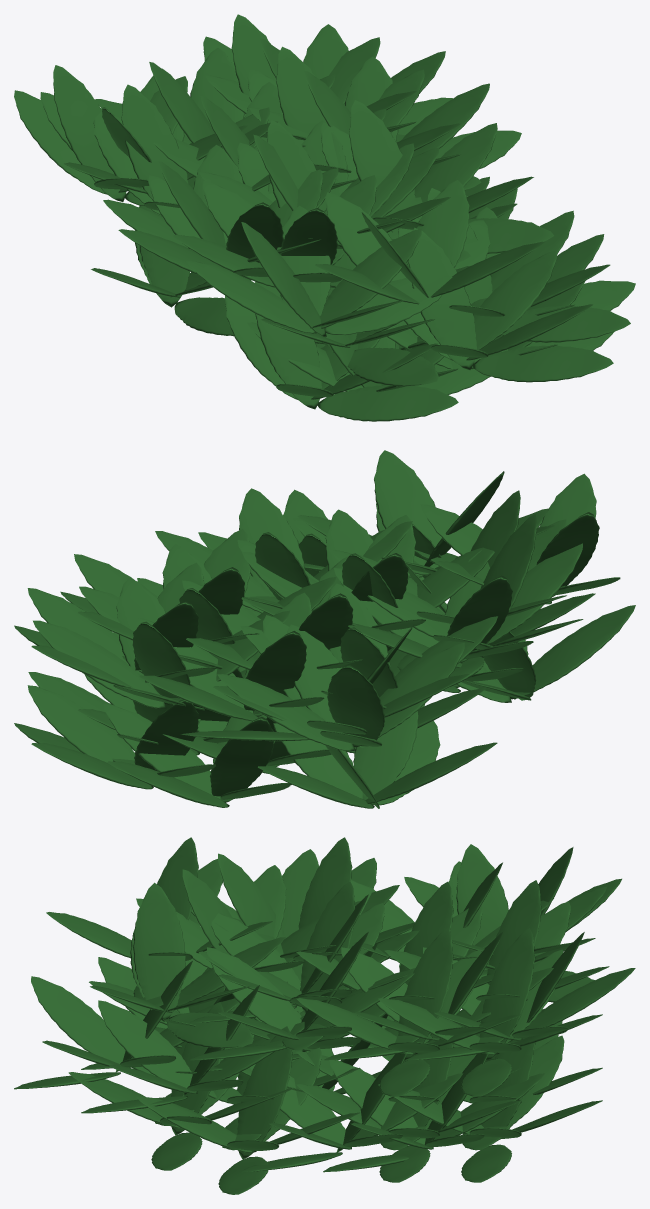
Rendered from bush.fbx.
The picture shows the model from 3 angles, top to bottom: view 1: azimuth 30°, elevation 25°; view 2: azimuth 150°, elevation 25°; view 3: azimuth 270°, elevation 25°; orthographic projection. The views are drawn at different scales.
Visible parts, largest first — view 1: polySurface185, polySurface175, polySurface156, polySurface160, polySurface162, polySurface164, polySurface168, polySurface176, polySurface155, polySurface177, polySurface158, polySurface159 (+13 smaller); view 2: polySurface164, polySurface157, polySurface181, polySurface179, polySurface180, polySurface177, polySurface163, polySurface182, polySurface160, polySurface175, polySurface156, polySurface161 (+17 smaller); view 3: polySurface162, polySurface172, polySurface182, polySurface168, polySurface155, polySurface160, polySurface185, polySurface179, polySurface173, polySurface178, polySurface183, polySurface181 (+21 smaller).
Part boxes in pixels (x1,y1,x2,y2): polySurface185: [404, 227, 613, 382]; polySurface175: [186, 205, 452, 336]; polySurface156: [225, 282, 458, 421]; polySurface160: [320, 100, 553, 253]; polySurface162: [315, 180, 544, 304]; polySurface164: [14, 65, 247, 206]; polySurface168: [249, 56, 521, 169]; polySurface176: [173, 175, 376, 287]; polySurface155: [398, 188, 630, 342]; polySurface177: [118, 169, 322, 280]; polySurface158: [93, 84, 270, 215]; polySurface159: [247, 46, 481, 190]; polySurface164: [217, 624, 464, 751]; polySurface157: [258, 711, 497, 808]; polySurface181: [33, 578, 289, 708]; polySurface179: [14, 685, 215, 789]; polySurface180: [103, 704, 291, 807]; polySurface177: [367, 514, 583, 686]; polySurface163: [122, 592, 324, 721]; polySurface182: [14, 562, 216, 687]; polySurface160: [155, 488, 412, 613]; polySurface175: [414, 473, 620, 604]; polySurface156: [456, 605, 635, 702]; polySurface161: [242, 509, 494, 625]; polySurface162: [90, 882, 285, 1048]; polySurface172: [135, 1026, 359, 1194]; polySurface182: [378, 928, 602, 1096]; polySurface168: [296, 928, 520, 1096]; polySurface155: [81, 985, 304, 1113]; polySurface160: [190, 932, 415, 1060]; polySurface185: [14, 961, 238, 1089]; polySurface179: [378, 1035, 602, 1182]; polySurface173: [241, 1053, 463, 1172]; polySurface178: [323, 1053, 544, 1172]; polySurface183: [68, 1002, 292, 1170]; polySurface181: [406, 932, 635, 1060].
Bounding box in the file's own units: 2.06 × 0.894 × 2.51.
